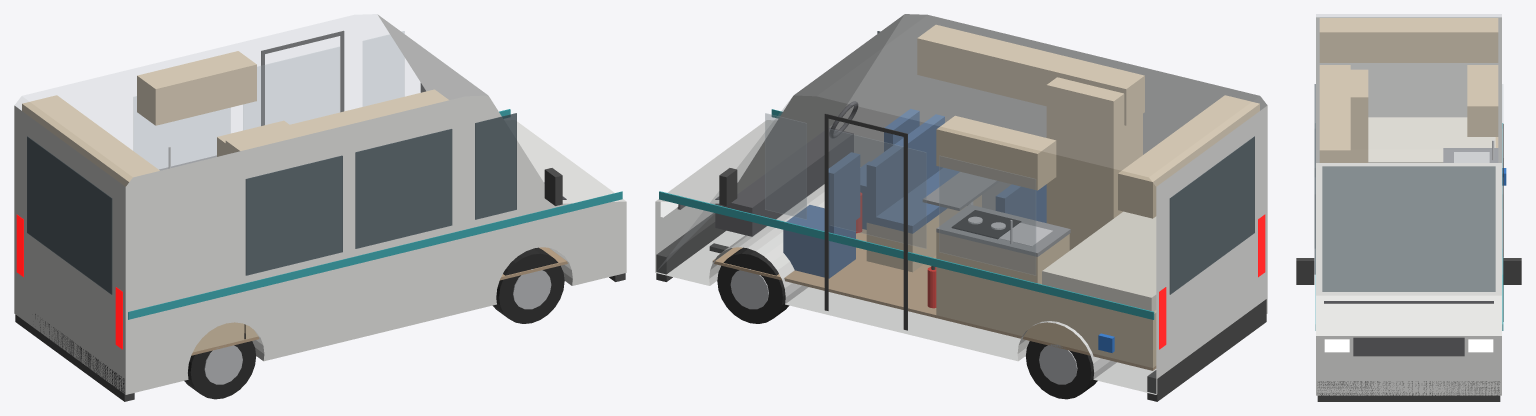
The model's file is force_urbania_3350wb.glb.
3 renders of one model, left to right at view 1: azimuth 30°, elevation 25°; view 2: azimuth 150°, elevation 25°; view 3: azimuth 270°, elevation 25°, orthographic. The views are drawn at different scales.
Parts seen in each view (by area): view 1: Body_Shell, Body_Cutaway_LeftWall_Roof, Window_Right_0, Window_Right_1, Window_Rear, Storage_Overhead_Left_Kitchen, Window_Left_0, Storage_Overhead_Rear, Stripe_Right, Window_Cab_Right, Window_Left_1, Storage_Overhead_Right (+10 smaller); view 2: Body_Cutaway_LeftWall_Roof, Body_Shell, Storage_Wardrobe_Tall, Storage_Overhead_Right, Window_Left_1, Window_Left_0, Window_Rear, Kitchen_Base_Cabinets, Bed_Mattress_Double, Storage_Overhead_Left_Kitchen, Storage_Overhead_Rear, Floor_Living (+24 smaller); view 3: Body_Shell, Body_Cutaway_LeftWall_Roof, Windscreen, Storage_Overhead_Rear, Bed_Mattress_Double, Storage_Overhead_Right, Storage_Overhead_Left_Kitchen, Grille, Bumper_Front, Storage_Wardrobe_Tall, Mirror_L, Mirror_R (+6 smaller).
Boxes of the visible parts, <box> form: Body_Shell: <box>14,14,626,394</box>; Body_Cutaway_LeftWall_Roof: <box>15,14,486,185</box>; Window_Right_0: <box>355,129,452,248</box>; Window_Right_1: <box>245,155,342,275</box>; Window_Rear: <box>27,136,112,294</box>; Storage_Overhead_Left_Kitchen: <box>137,51,256,125</box>; Window_Left_0: <box>243,47,339,129</box>; Storage_Overhead_Rear: <box>22,95,159,186</box>; Stripe_Right: <box>128,191,622,319</box>; Window_Cab_Right: <box>475,113,516,219</box>; Window_Left_1: <box>133,96,230,168</box>; Storage_Overhead_Right: <box>225,89,448,154</box>; Body_Cutaway_LeftWall_Roof: <box>656,14,1266,394</box>; Body_Shell: <box>655,14,1267,394</box>; Storage_Wardrobe_Tall: <box>1046,77,1142,250</box>; Storage_Overhead_Right: <box>917,24,1144,125</box>; Window_Left_1: <box>939,156,1035,275</box>; Window_Left_0: <box>830,129,926,248</box>; Window_Rear: <box>1169,136,1254,294</box>; Kitchen_Base_Cabinets: <box>936,232,1069,339</box>; Bed_Mattress_Double: <box>1042,211,1156,311</box>; Storage_Overhead_Left_Kitchen: <box>936,115,1056,190</box>; Storage_Overhead_Rear: <box>1118,95,1259,218</box>; Floor_Living: <box>712,229,1156,370</box>; Body_Shell: <box>1316,17,1501,395</box>; Body_Cutaway_LeftWall_Roof: <box>1316,14,1501,162</box>; Windscreen: <box>1322,166,1495,291</box>; Storage_Overhead_Rear: <box>1319,18,1498,62</box>; Bed_Mattress_Double: <box>1368,117,1495,162</box>; Storage_Overhead_Right: <box>1319,65,1350,162</box>; Storage_Overhead_Left_Kitchen: <box>1467,65,1498,136</box>; Grille: <box>1353,337,1464,356</box>; Bumper_Front: <box>1317,381,1500,401</box>; Storage_Wardrobe_Tall: <box>1350,69,1368,162</box>; Mirror_L: <box>1503,258,1521,284</box>; Mirror_R: <box>1296,258,1314,284</box>.
Bounding box in the file's own units: 5.45 × 2.55 × 2.54.
